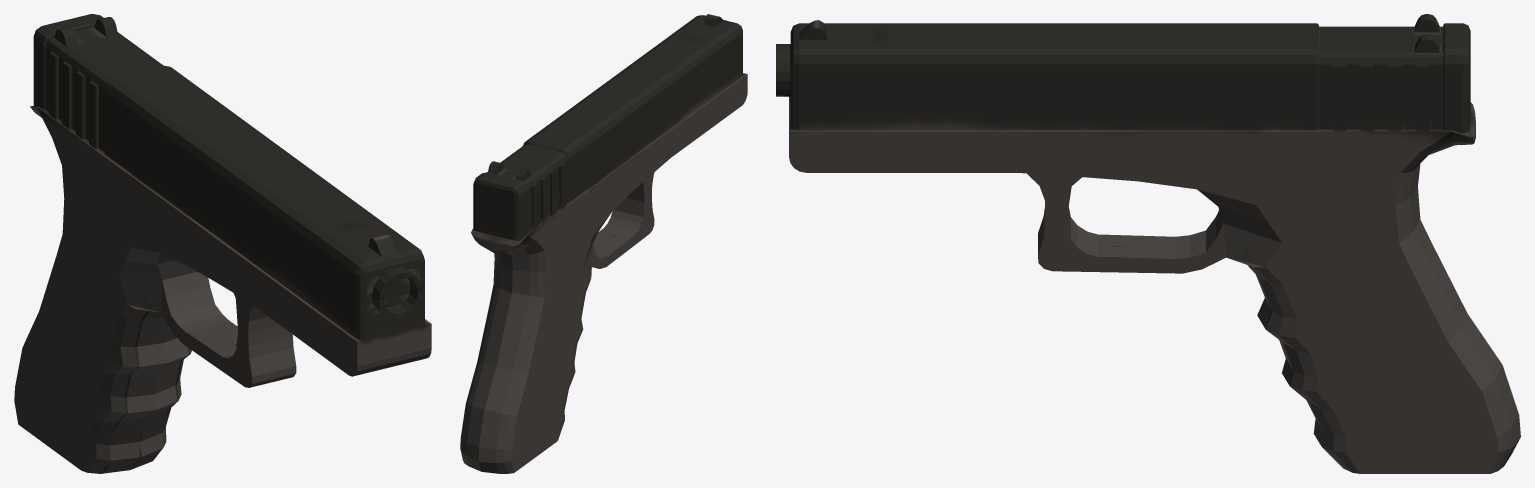
The model's file is Glock.fbx.
3 renders of one model, left to right at view 1: azimuth 30°, elevation 25°; view 2: azimuth 150°, elevation 25°; view 3: azimuth 270°, elevation 25°, orthographic. The views are drawn at different scales.
Visible parts, largest first — view 1: Circle.001; view 2: Circle.001; view 3: Circle.001.
Part boxes in pixels (box(x1,y1,x2,y2)): Circle.001: box(14, 14, 431, 473); Circle.001: box(460, 14, 747, 473); Circle.001: box(776, 14, 1520, 473).
Size of the model in its own units: 17.31 by 92.8 by 145.
Materials: 1 (1 with a texture image).
